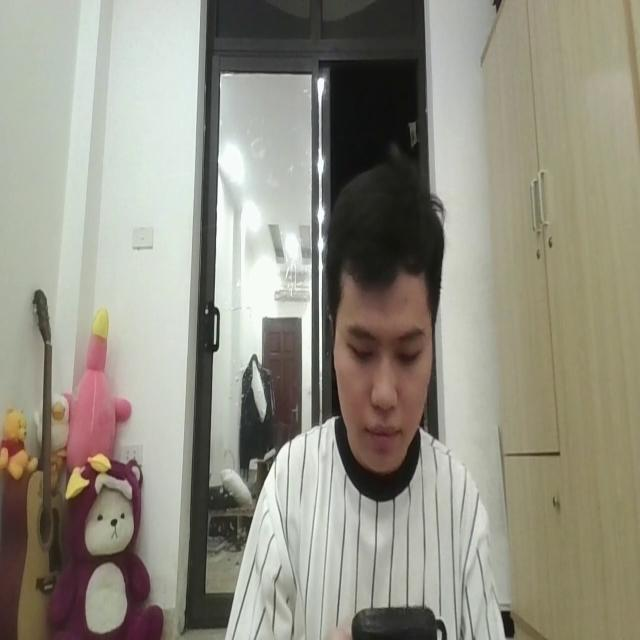phone: (348, 594, 440, 640)
student: (218, 148, 510, 640)
